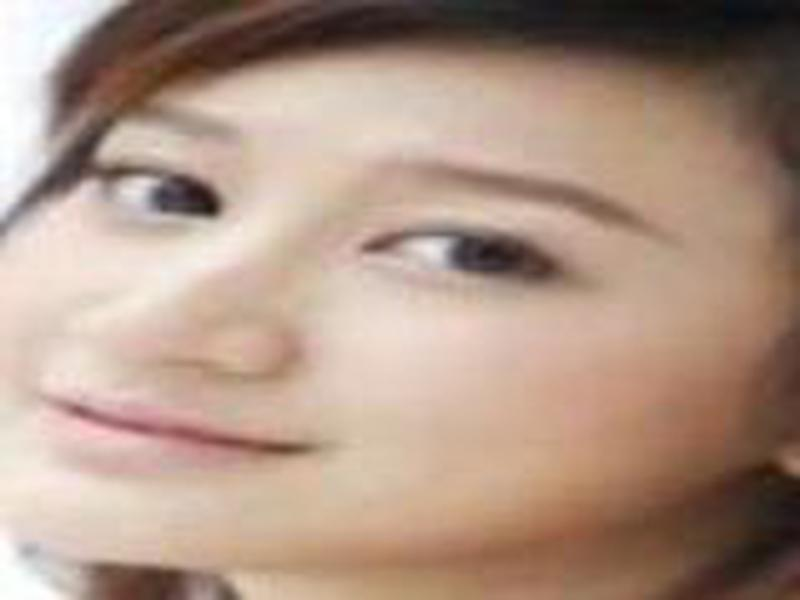without_mask: (1, 51, 749, 600)
